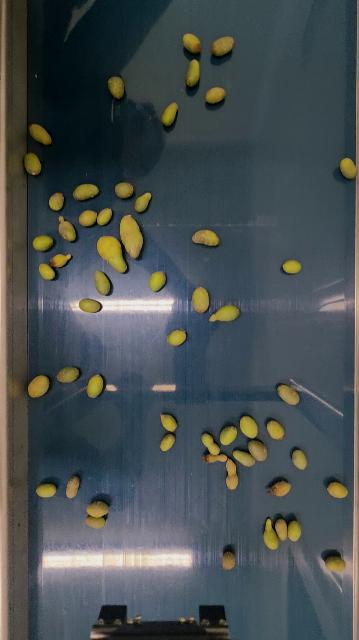Baby Potato: (96, 234, 130, 274), (117, 212, 144, 259), (209, 303, 241, 324), (28, 122, 53, 147), (210, 34, 236, 58), (183, 58, 203, 89), (192, 228, 221, 248), (27, 374, 51, 398), (277, 383, 301, 407), (191, 286, 211, 314), (93, 268, 112, 297), (181, 31, 203, 55), (263, 518, 279, 551), (106, 74, 126, 100), (240, 414, 260, 440), (160, 100, 179, 127), (247, 438, 268, 462), (86, 373, 105, 399), (225, 458, 240, 490), (57, 218, 77, 242), (23, 151, 42, 176), (232, 449, 257, 468), (73, 183, 99, 201), (204, 85, 227, 105), (339, 157, 359, 180), (201, 432, 220, 455), (56, 366, 80, 384), (268, 479, 292, 497), (78, 296, 102, 314), (219, 425, 239, 446), (78, 208, 99, 228), (133, 191, 152, 213), (148, 270, 167, 292), (325, 554, 347, 573), (327, 480, 349, 499), (86, 500, 109, 518), (274, 518, 289, 545), (159, 412, 178, 433), (267, 418, 285, 440), (32, 234, 54, 252), (291, 448, 309, 470), (65, 475, 81, 499), (167, 328, 187, 347), (287, 518, 302, 542), (114, 181, 134, 199), (48, 191, 65, 212), (35, 482, 57, 498), (50, 253, 73, 268), (38, 262, 56, 281), (282, 259, 303, 274), (85, 516, 107, 530), (97, 207, 113, 226), (222, 550, 236, 571), (160, 433, 176, 451), (203, 453, 226, 463)
